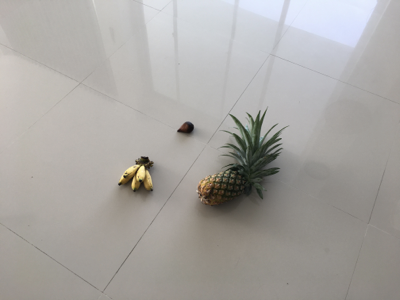banana: (118, 156, 154, 195)
pineapple: (198, 107, 290, 209)
snake fruit: (178, 122, 195, 136)
